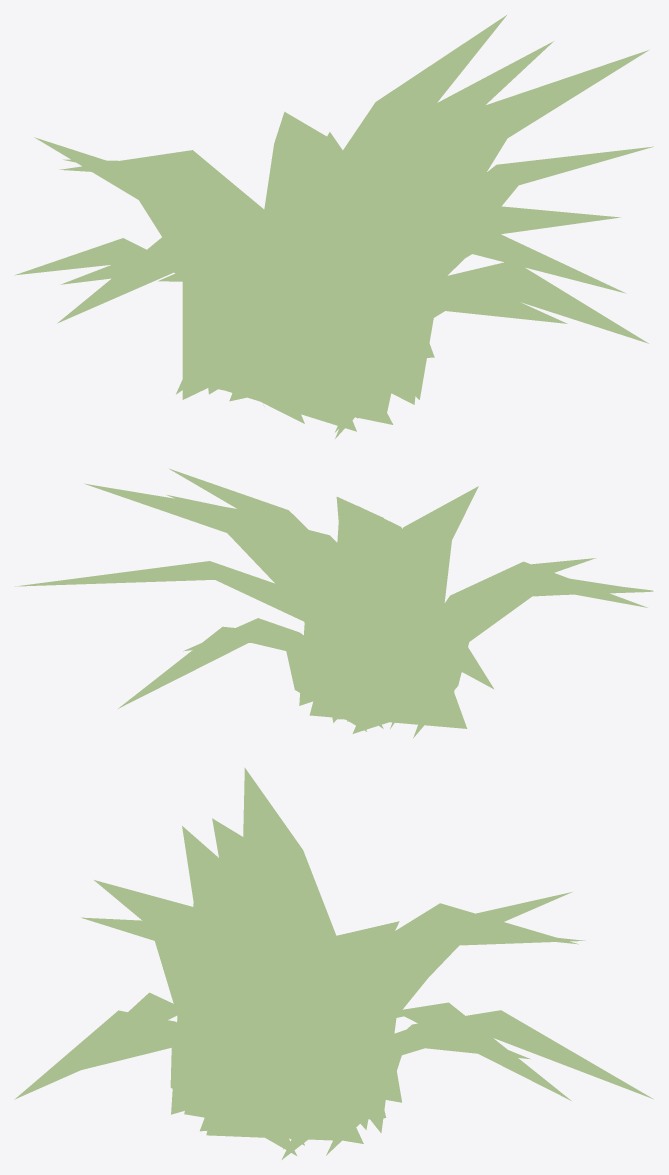
Rendered from Blender_Sedge_2.glb.
3 views of the same model, one above another, from view 1: azimuth 30°, elevation 25°; view 2: azimuth 150°, elevation 25°; view 3: azimuth 270°, elevation 25° (orthographic). The views are drawn at different scales.
Visible parts, largest first — view 1: Blender_Sedge_2; view 2: Blender_Sedge_2; view 3: Blender_Sedge_2.
Part boxes in pixels (<box>): Blender_Sedge_2: <box>15,15,653,438</box>; Blender_Sedge_2: <box>15,468,653,738</box>; Blender_Sedge_2: <box>14,767,653,1159</box>.
Size of the model in its own units: 0.6743 by 0.2393 by 0.5744.
